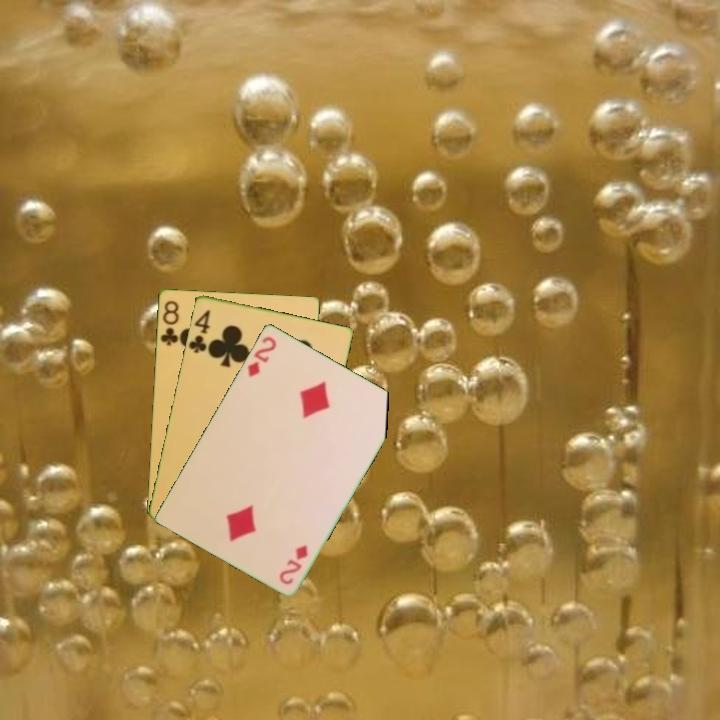2d: (244, 332, 279, 380), (275, 541, 311, 587)
4c: (185, 306, 213, 356)
8c: (157, 297, 181, 348)
